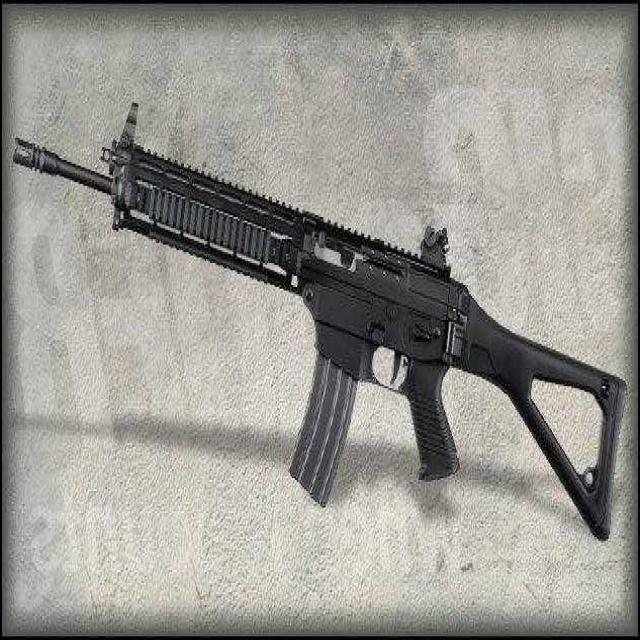heavyweapon: (11, 51, 633, 607)
